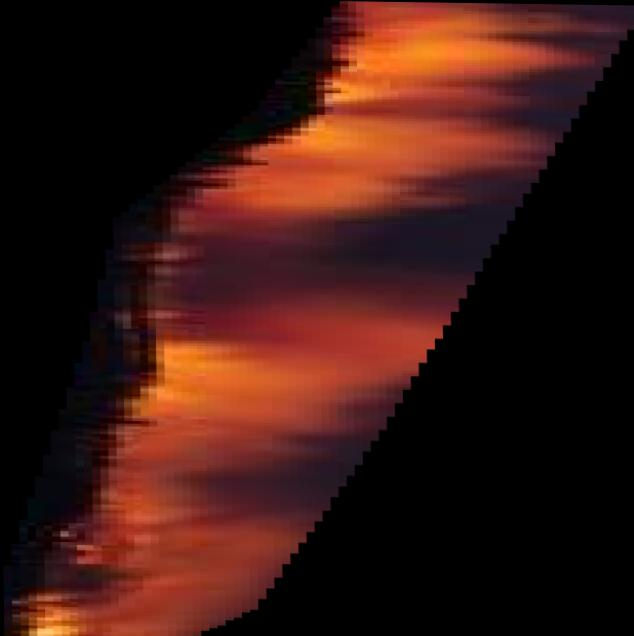fire: (1, 0, 634, 636)
